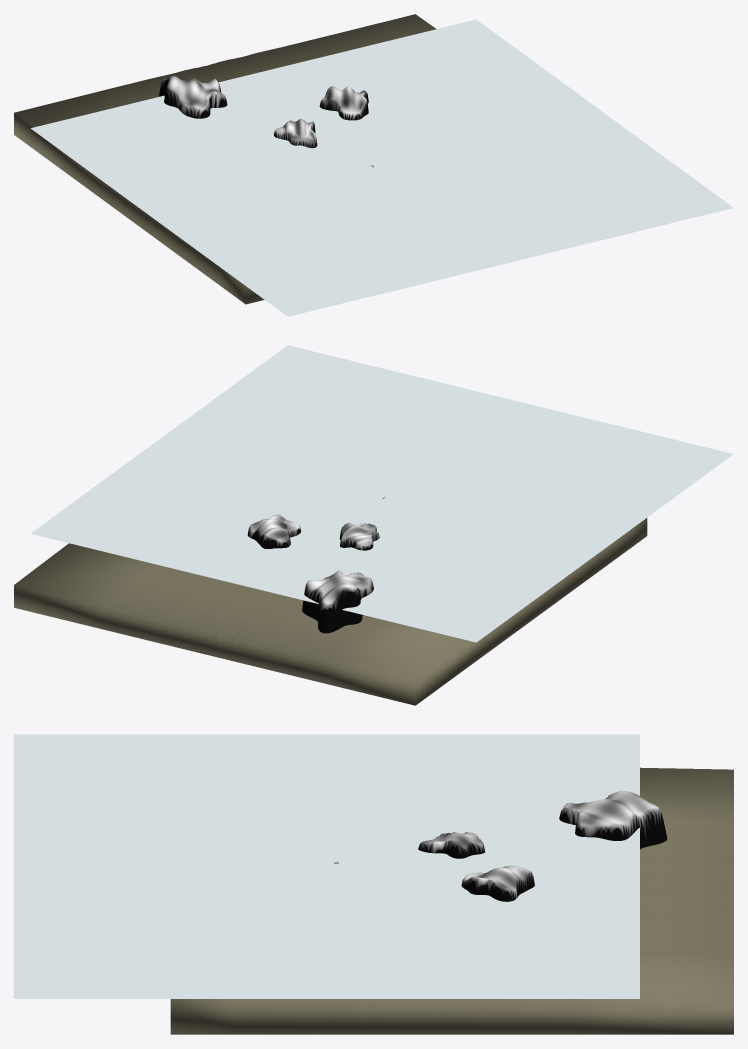
Rendered from NearshoreChannel.fbx.
The picture shows the model from 3 angles, top to bottom: view 1: azimuth 30°, elevation 25°; view 2: azimuth 150°, elevation 25°; view 3: azimuth 270°, elevation 25°; orthographic projection. The views are drawn at different scales.
Visible parts, largest first — view 1: Water_LOD0, Seabed_LOD0, Islands_LOD0; view 2: Water_LOD0, Seabed_LOD0, Islands_LOD0; view 3: Water_LOD0, Seabed_LOD0, Islands_LOD0.
Part boxes in pixels (x1,y1,x2,y2): Water_LOD0: (31,19,733,316); Seabed_LOD0: (14,14,436,304); Islands_LOD0: (159,75,368,147); Water_LOD0: (30,345,733,642); Seabed_LOD0: (14,518,647,705); Islands_LOD0: (247,514,379,633); Water_LOD0: (14,734,639,998); Seabed_LOD0: (170,767,733,1034); Islands_LOD0: (418,791,667,901).
Size of what is drawn, in the model's own units: 40000 by 5191 by 46000.
Materials: 11 (4 with a texture image).
